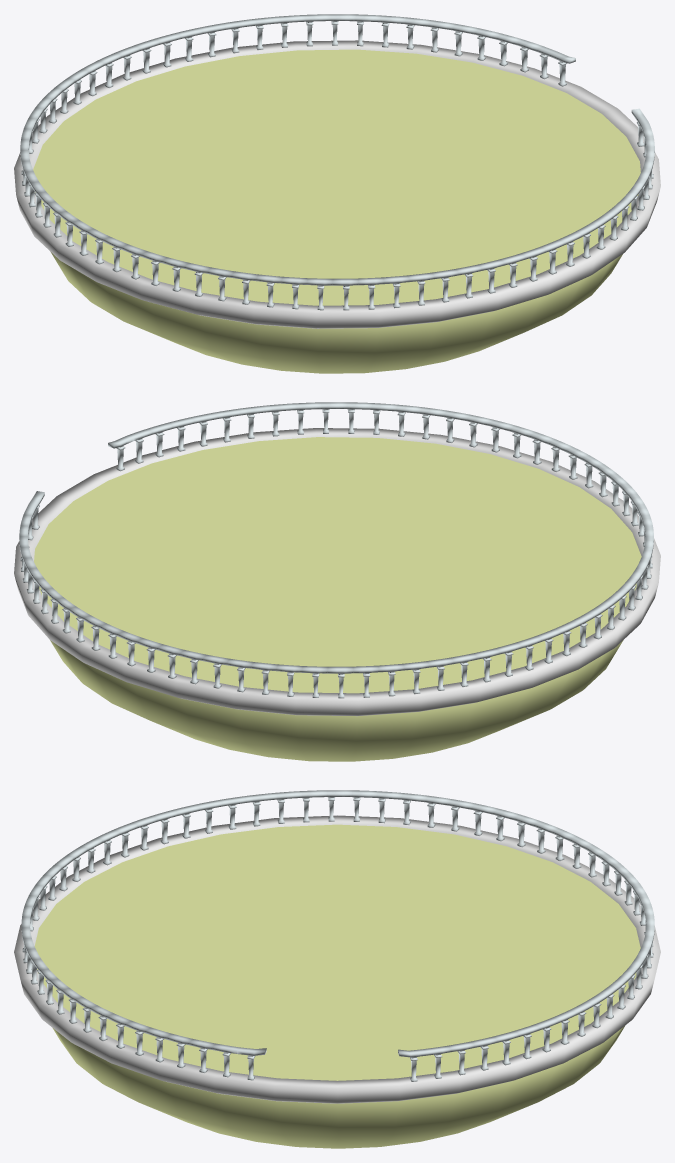
The model's file is SmallPlatform_OneGate.fbx.
3 renders of one model, top to bottom at view 1: azimuth 30°, elevation 25°; view 2: azimuth 150°, elevation 25°; view 3: azimuth 270°, elevation 25°, orthographic.
Visible parts, largest first — view 1: GrassPlatform, Circle, PlatformRailing, GrassShader; view 2: GrassPlatform, Circle, PlatformRailing, GrassShader; view 3: GrassPlatform, Circle, PlatformRailing, GrassShader.
Boxes of the visible parts, x1,y1,x2,y2 form: GrassPlatform: (33,49,640,305); Circle: (14,40,660,328); PlatformRailing: (20,14,654,310); GrassShader: (51,252,622,373); GrassPlatform: (34,437,641,693); Circle: (14,428,660,716); PlatformRailing: (19,402,653,698); GrassShader: (50,640,623,761); GrassPlatform: (34,824,640,1080); Circle: (14,815,660,1103); PlatformRailing: (21,790,654,1081); GrassShader: (52,1026,624,1148).
Bounding box in the file's own units: 8803 × 2641 × 8803.
